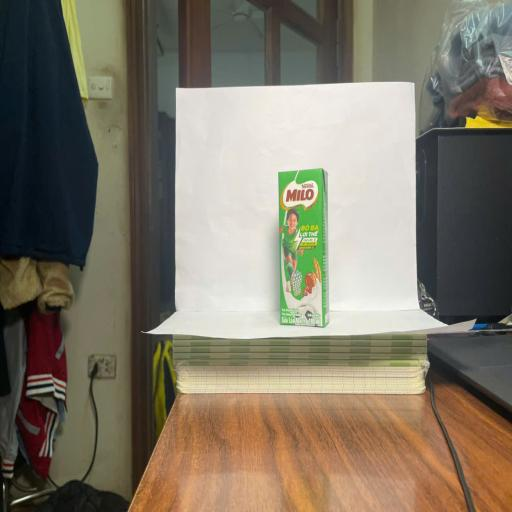milo: (279, 169, 328, 326)
